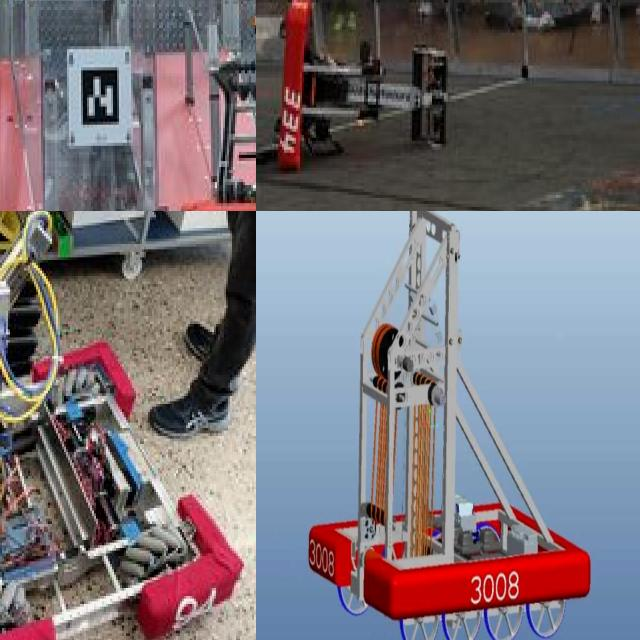FRC-Robots: (280, 211, 627, 627), (0, 211, 256, 640), (275, 0, 469, 192), (156, 0, 256, 211)
